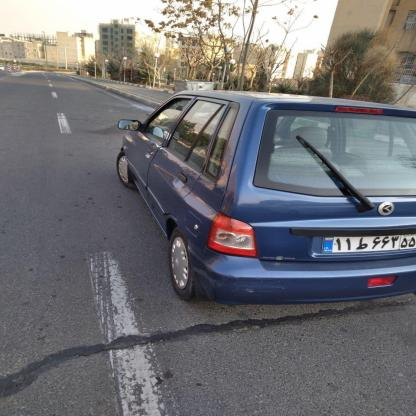Car: (107, 88, 416, 318)
